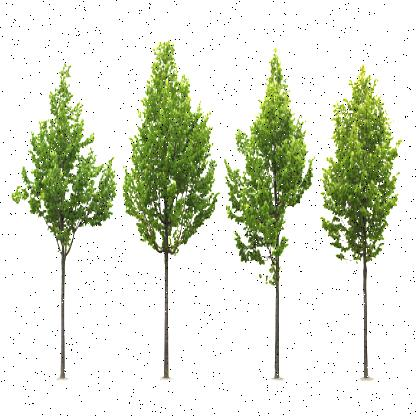Tree: (19, 55, 119, 381), (121, 39, 216, 380), (229, 44, 318, 382), (322, 55, 402, 378)
